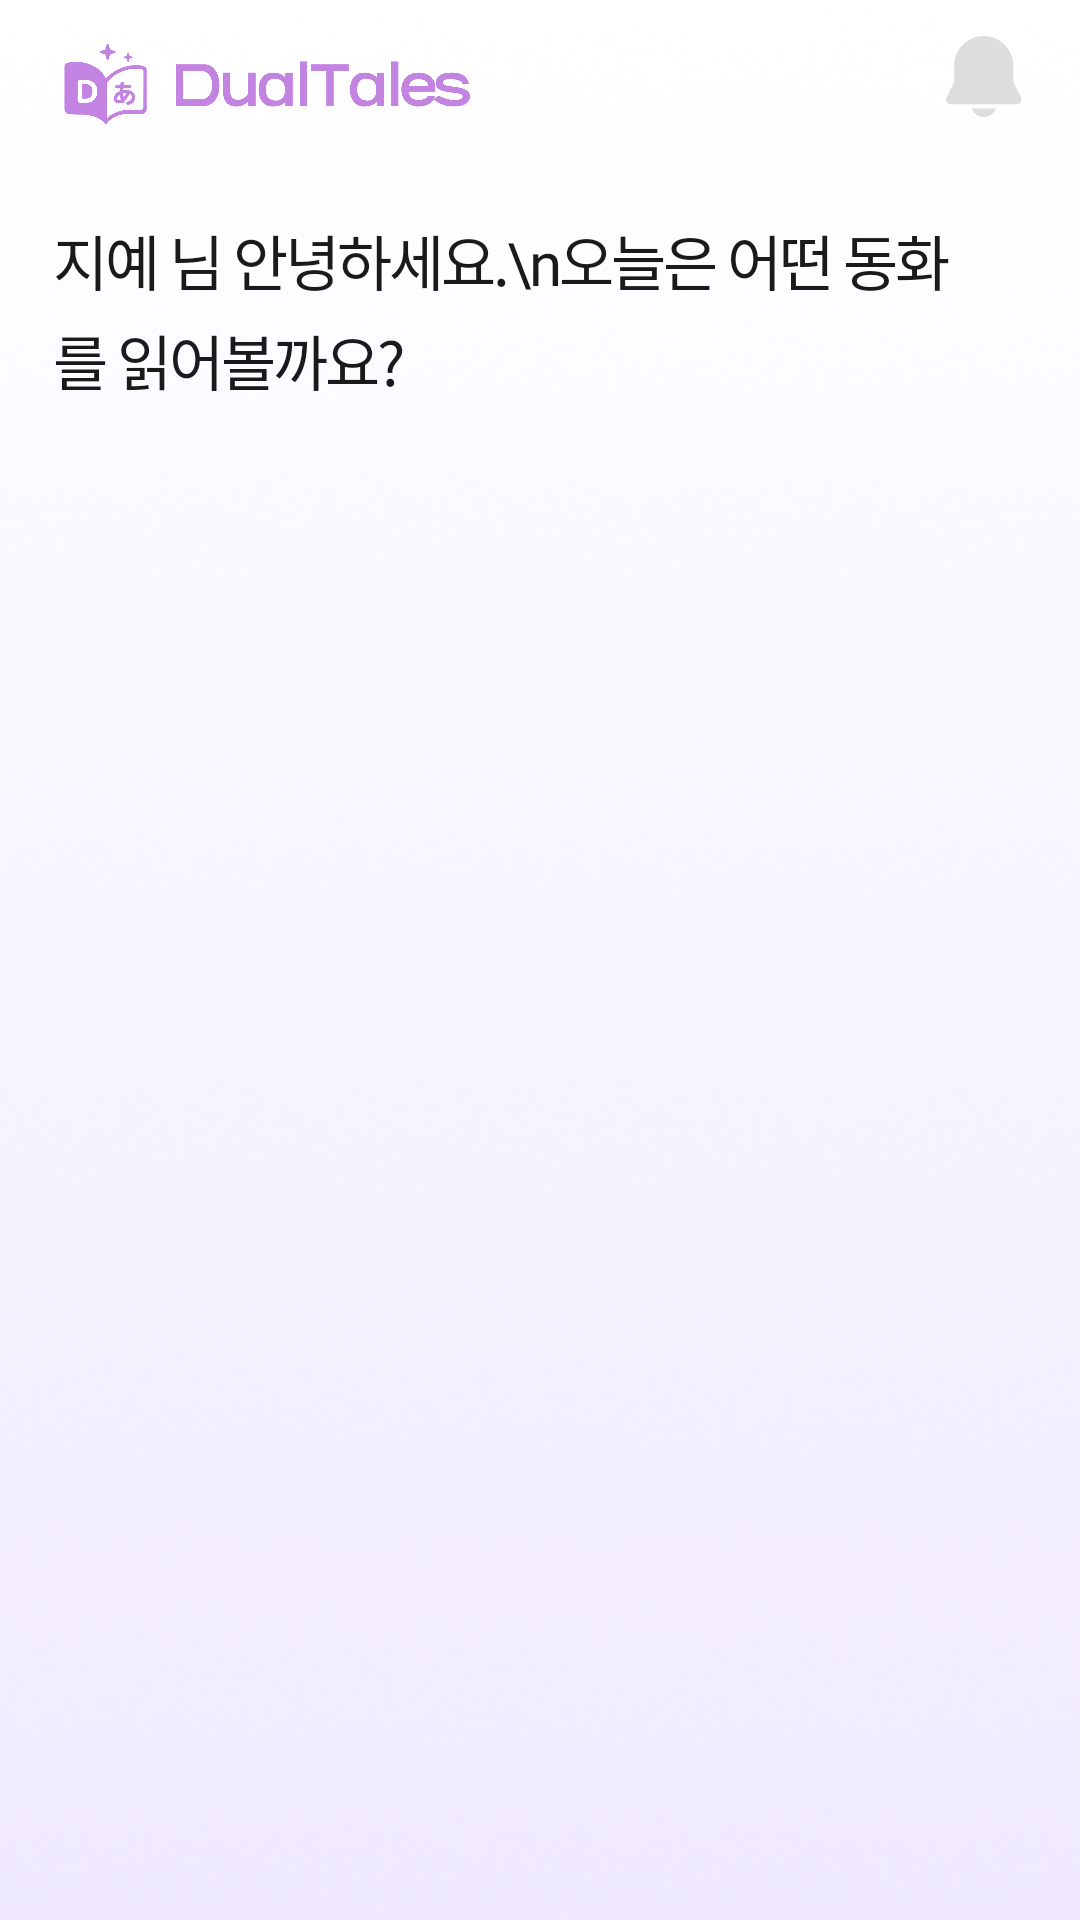

Where icons sit on this 1080 × 1920 app screen, as BBox(x1, y1, x2, y2):
알림: BBox(946, 36, 1021, 117)
